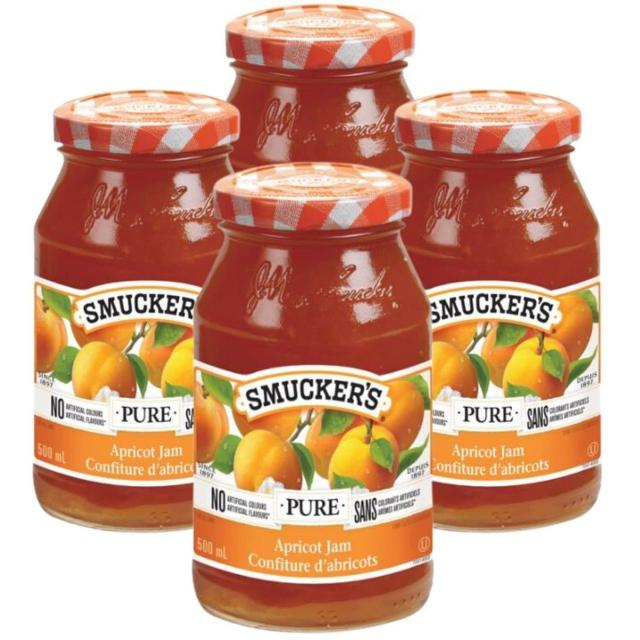cosmotic: (228, 250, 424, 587), (425, 146, 595, 512)
food-supliment: (58, 177, 192, 505)
